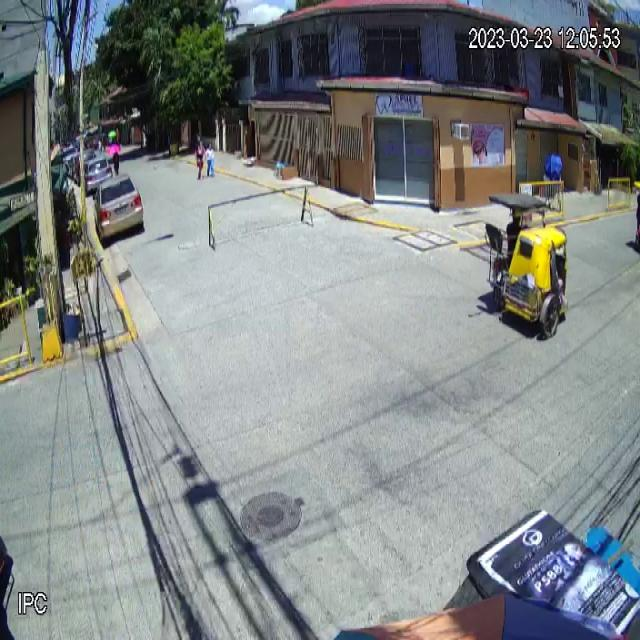Tricycle: (484, 193, 569, 338)
